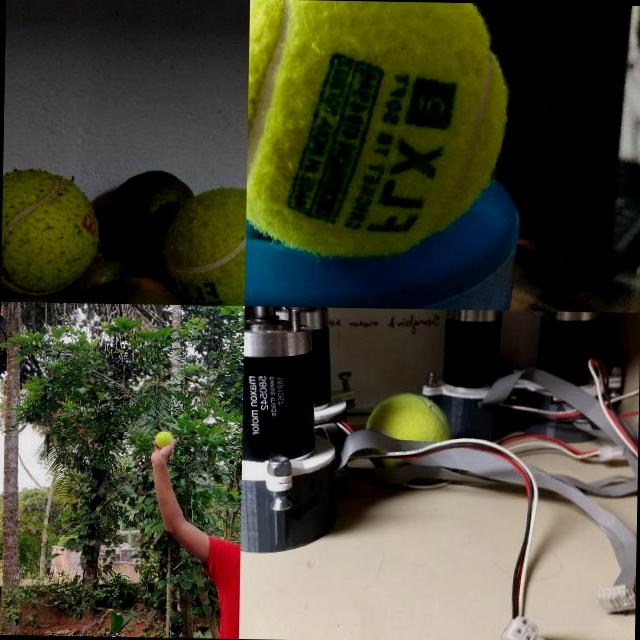Tennis Ball: (246, 0, 507, 257), (1, 168, 100, 296), (186, 186, 246, 304), (366, 392, 451, 430), (155, 430, 172, 448)
